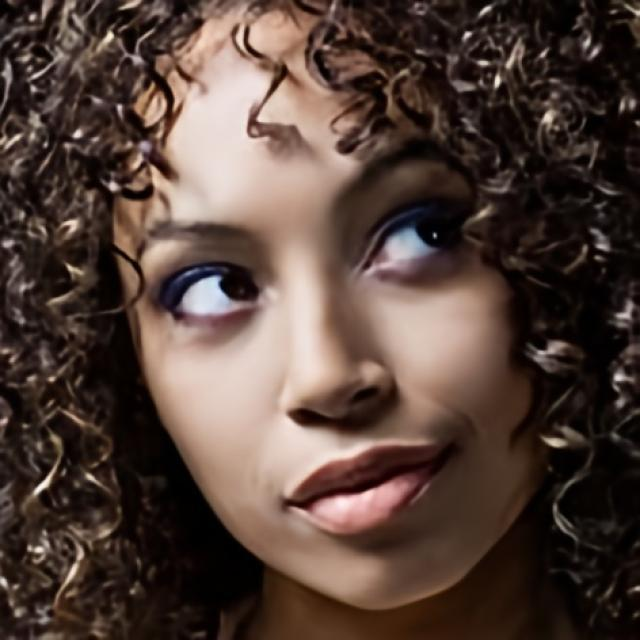content: (110, 0, 554, 615)
